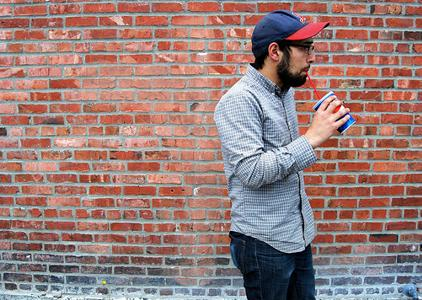person: (215, 9, 351, 299)
